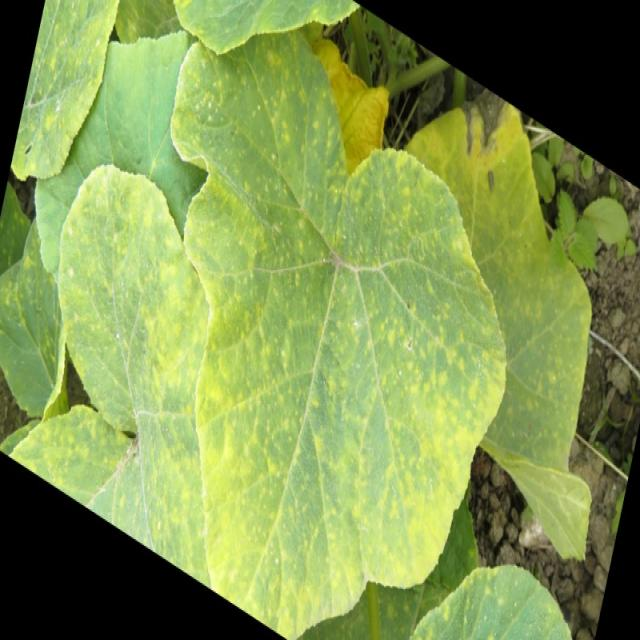Chlorosis: (13, 17, 635, 640)
